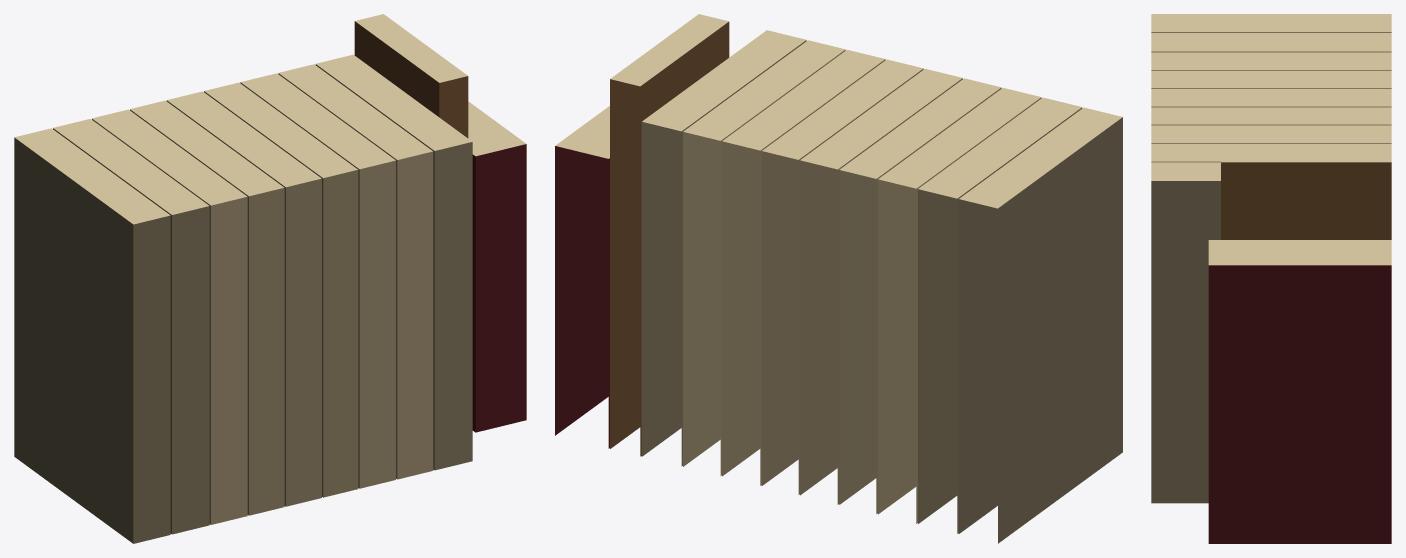
Rendered from bookrow_tall_4_lod.glb.
The picture shows the model from 3 angles, left to right: view 1: azimuth 30°, elevation 25°; view 2: azimuth 150°, elevation 25°; view 3: azimuth 270°, elevation 25°; orthographic projection. The views are drawn at different scales.
Visible parts, largest first — view 1: bookrow_tall_4_lod; view 2: bookrow_tall_4_lod; view 3: bookrow_tall_4_lod.
Boxes of the visible parts, x1=… form: bookrow_tall_4_lod: x1=14, y1=14, x2=526, y2=543; bookrow_tall_4_lod: x1=555, y1=14, x2=1122, y2=543; bookrow_tall_4_lod: x1=1151, y1=14, x2=1391, y2=543.
Bounding box in the file's own units: 0.4658 × 0.3722 × 0.228.
